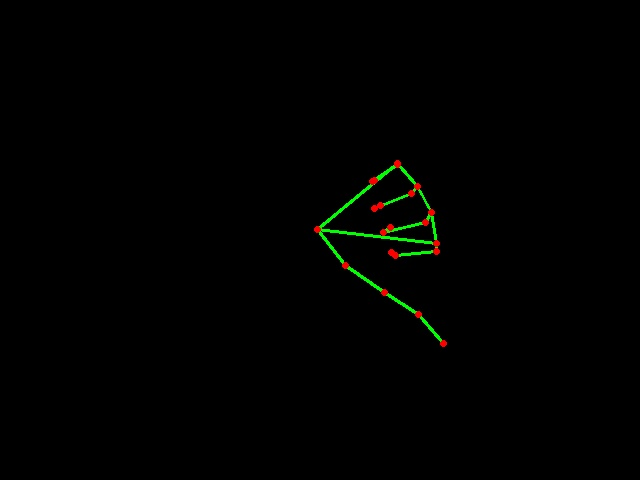slow: (310, 149, 459, 357)
